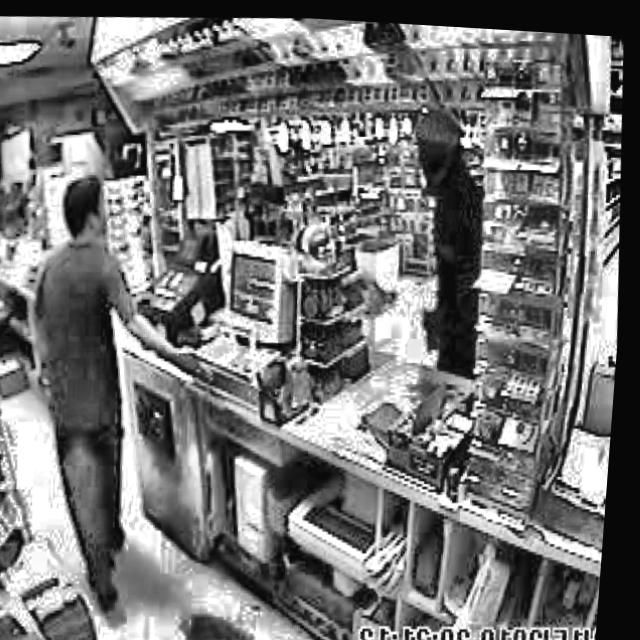robbery: (389, 92, 507, 393)
